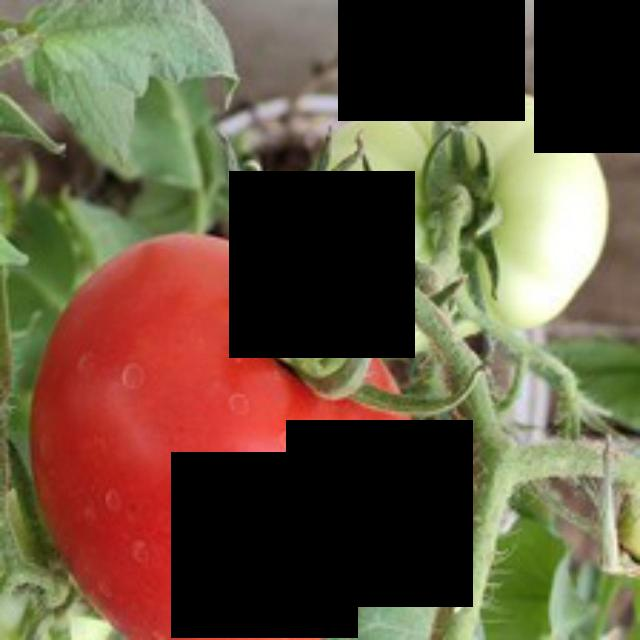tomato: (32, 234, 426, 637)
